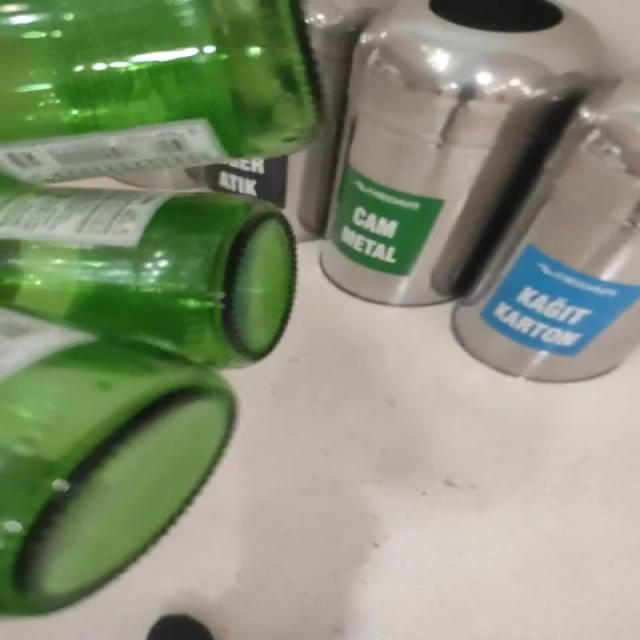glass: (0, 0, 319, 616)
